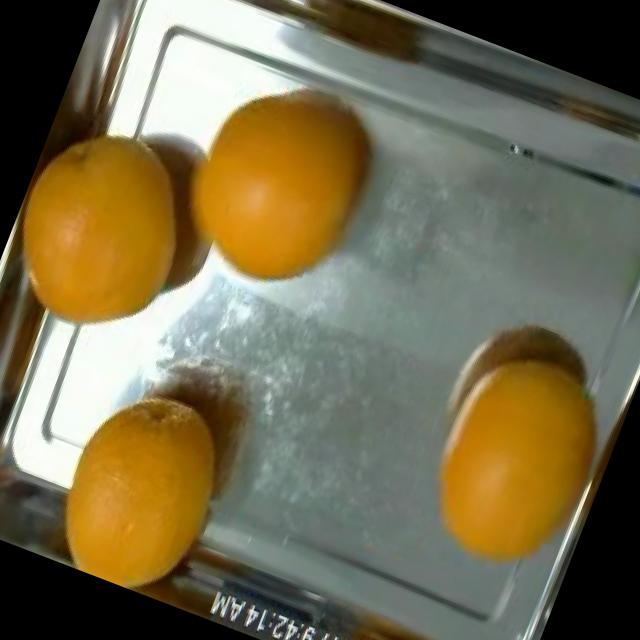Fruit: (36, 380, 256, 612)
